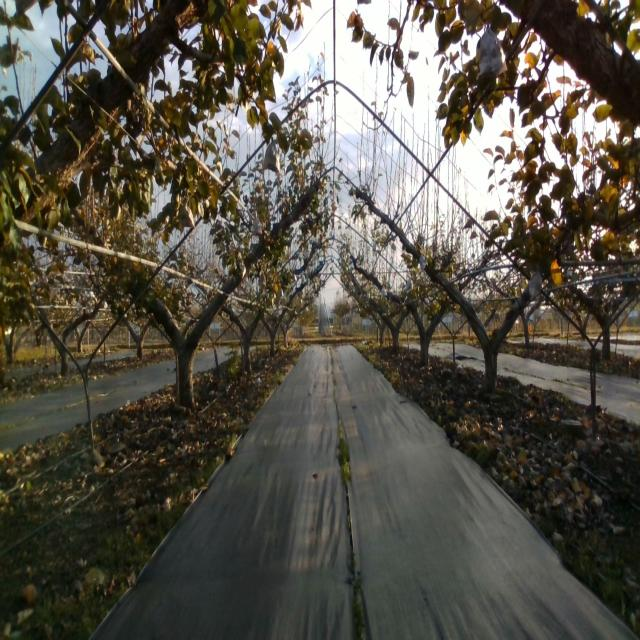pearbags: (478, 22, 508, 77), (262, 136, 281, 175), (178, 202, 195, 228), (528, 270, 542, 300), (252, 210, 263, 235)
